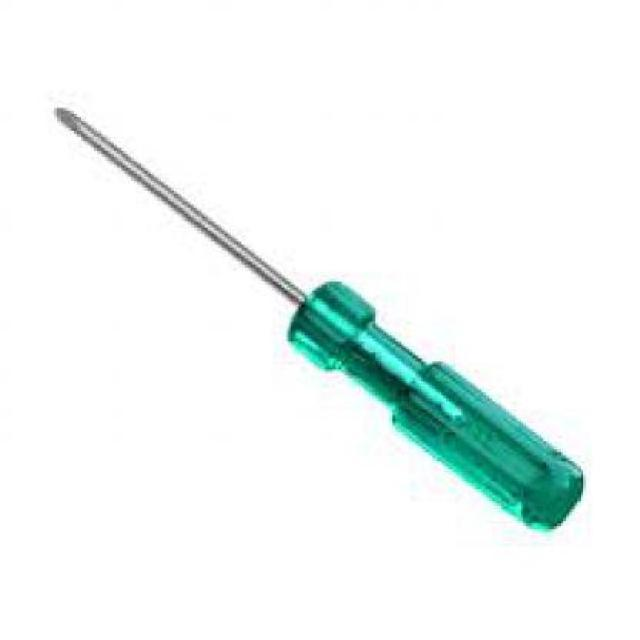screwdriver: (50, 103, 592, 540)
